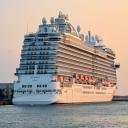cruises: (12, 12, 122, 107)
